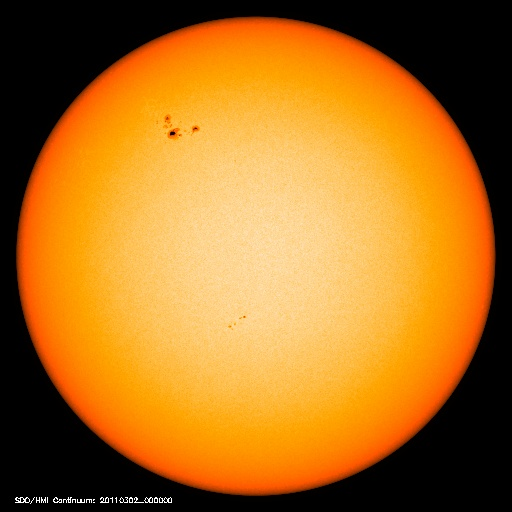sunspot: (151, 106, 205, 144), (221, 304, 255, 332)
